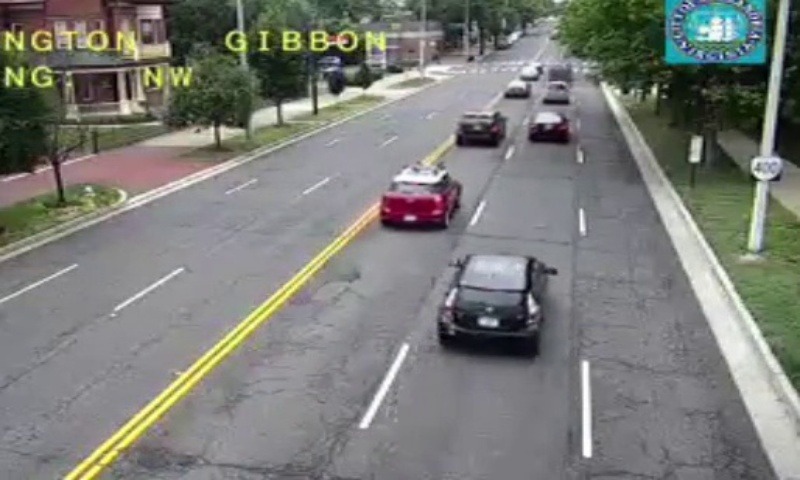car: (438, 252, 547, 346), (381, 167, 462, 224), (456, 111, 505, 144), (526, 111, 568, 138)
